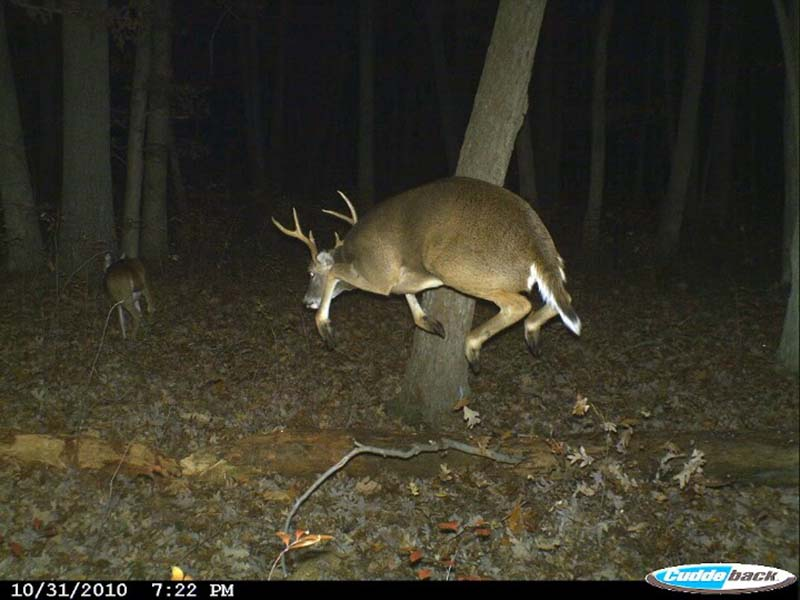cervo: (269, 170, 591, 360), (95, 244, 165, 352)
